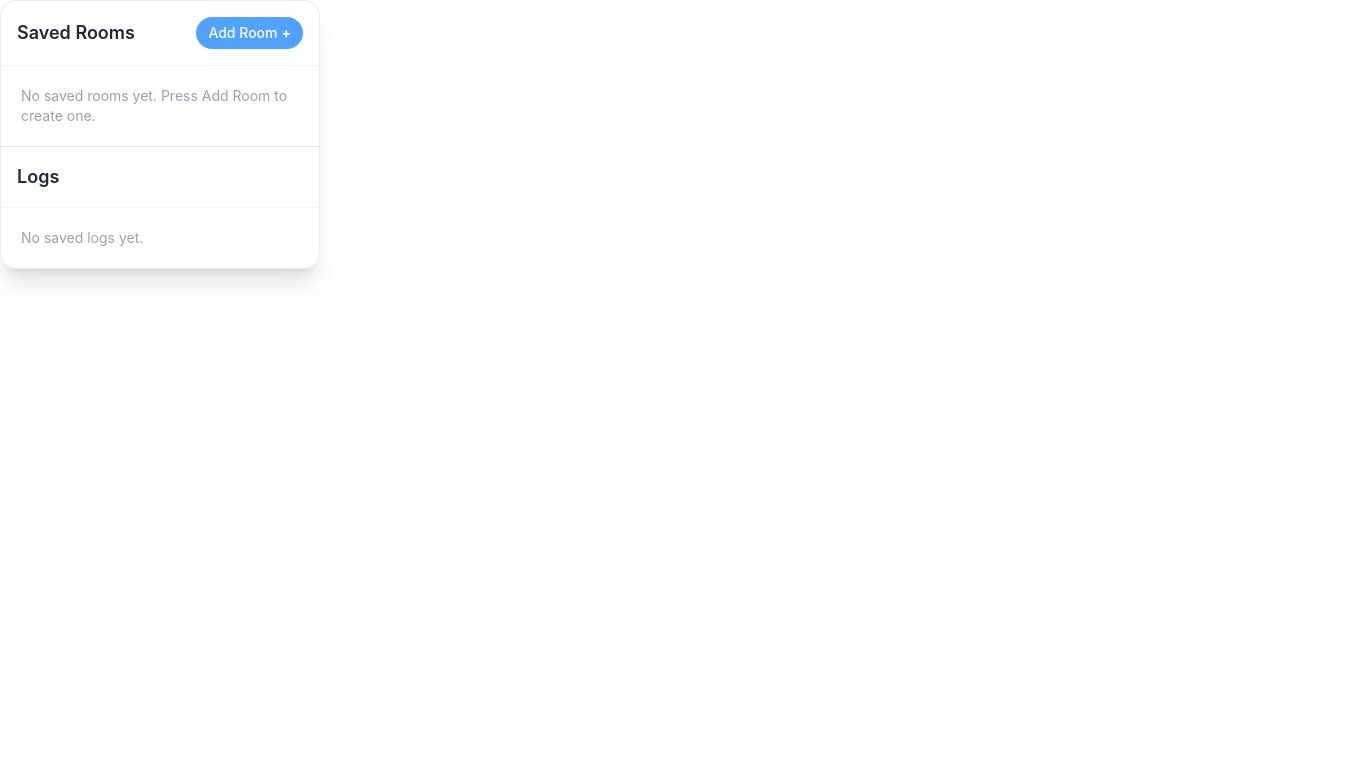
Test: Rooms: Customize New Room › opens a draft room with the default room size, fields and user inputs
Expected: the text "No saved rooms yet. Press Add Room to create one." is shown, [21,87,287,124]
Click the button "Add Room +": x=250, y=33 [196,17,303,49]
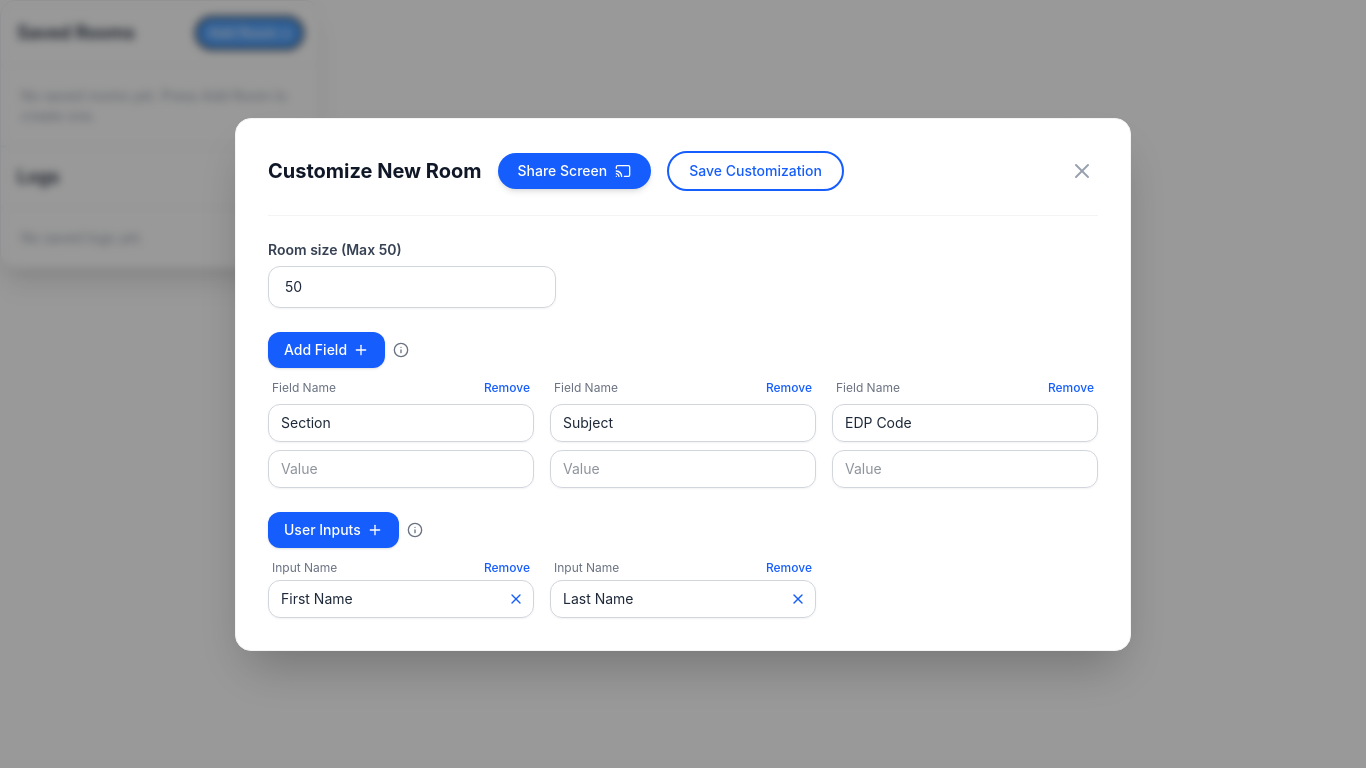
Now the heading "Customize New Room" is shown, box [268,156,482,184]
Now the field below "Room size (Max" holds "50", box [268,266,556,308]
